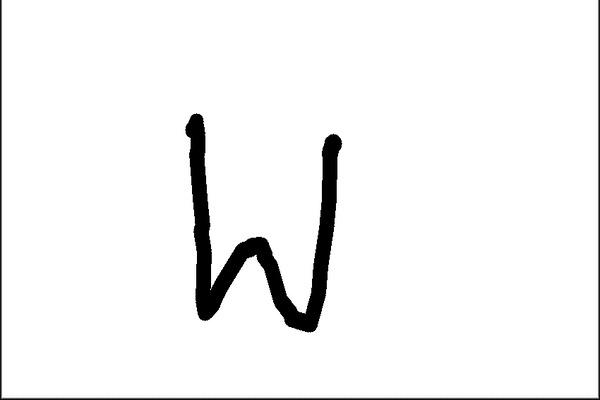w: (162, 99, 362, 351)
